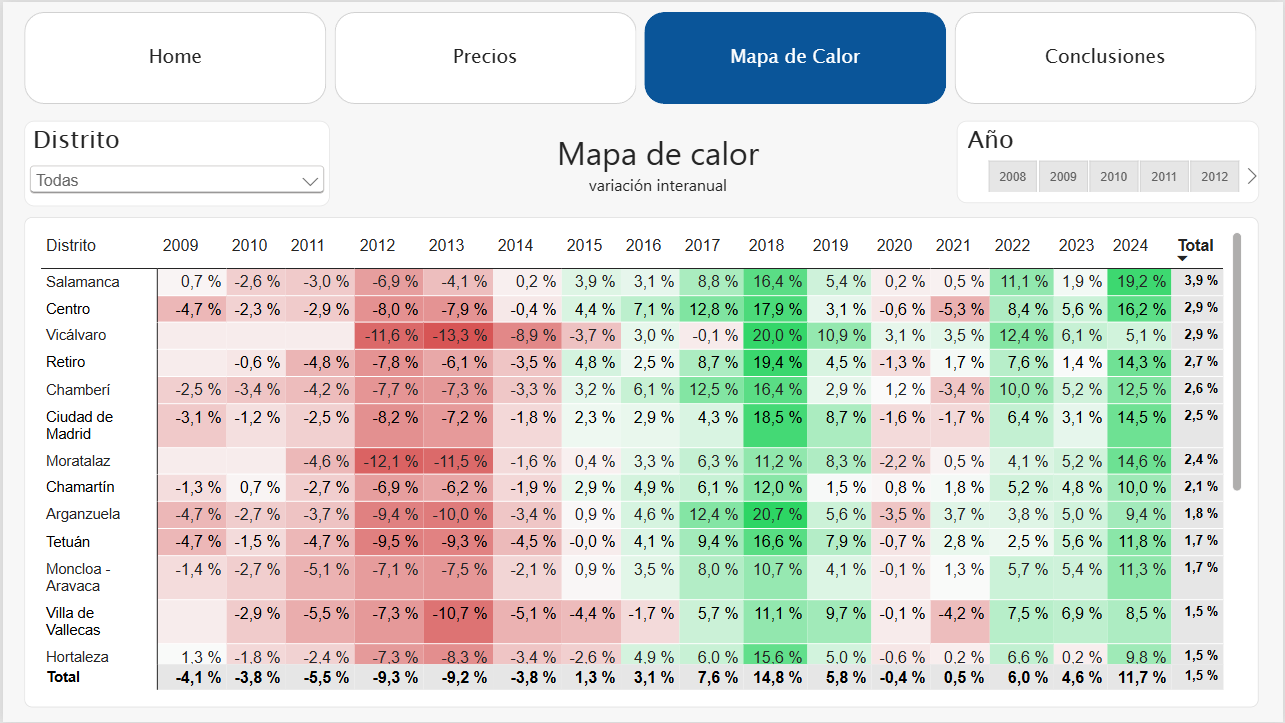

Layout of this report page (visuals, bound fields, positions):
{"tool":"powerbi","page":{"name":"Mapa de Calor","canvas":[1280,720],"ordinal":2},"visuals":[{"type":"textbox","box":[0,0,1280,83.8],"z":0},{"type":"pivotTable","title":"Heatmap","fields":{"Columns":["DimFecha.Año"],"Rows":["DimDistrito.Distrito"],"Values":["FactPrecios.Variación YoY"]},"box":[21.1,215.6,1234.4,490],"z":1000},{"type":"textbox","box":[400,128.9,510,86.7],"z":4001},{"type":"pageNavigator","box":[21.1,10,1234.4,92.2],"z":4002},{"type":"slicer","fields":{"Values":["DimDistrito.Distrito"]},"box":[21.1,118.9,305.6,85.6],"z":4003},{"type":"slicer","title":"Año","fields":{"Values":["DimFecha.Año"]},"box":[953.3,118.9,302.2,82.2],"z":4004}]}

Visuals, with their boxes in screenshot pixels (x1, y1, x2, y2), scaled from the page's 1280x720 canvas onto the 1285x723 screenshot:
textbox: region(0, 0, 1284, 84)
"Heatmap" pivotTable: region(21, 216, 1260, 709)
textbox: region(402, 129, 914, 216)
pageNavigator: region(21, 10, 1260, 103)
slicer - DimDistrito.Distrito: region(21, 119, 328, 205)
"Año" slicer: region(957, 119, 1260, 202)
